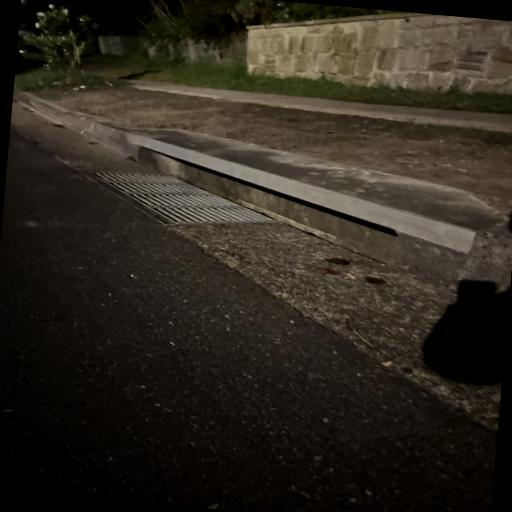gutter: (94, 129, 508, 274)
